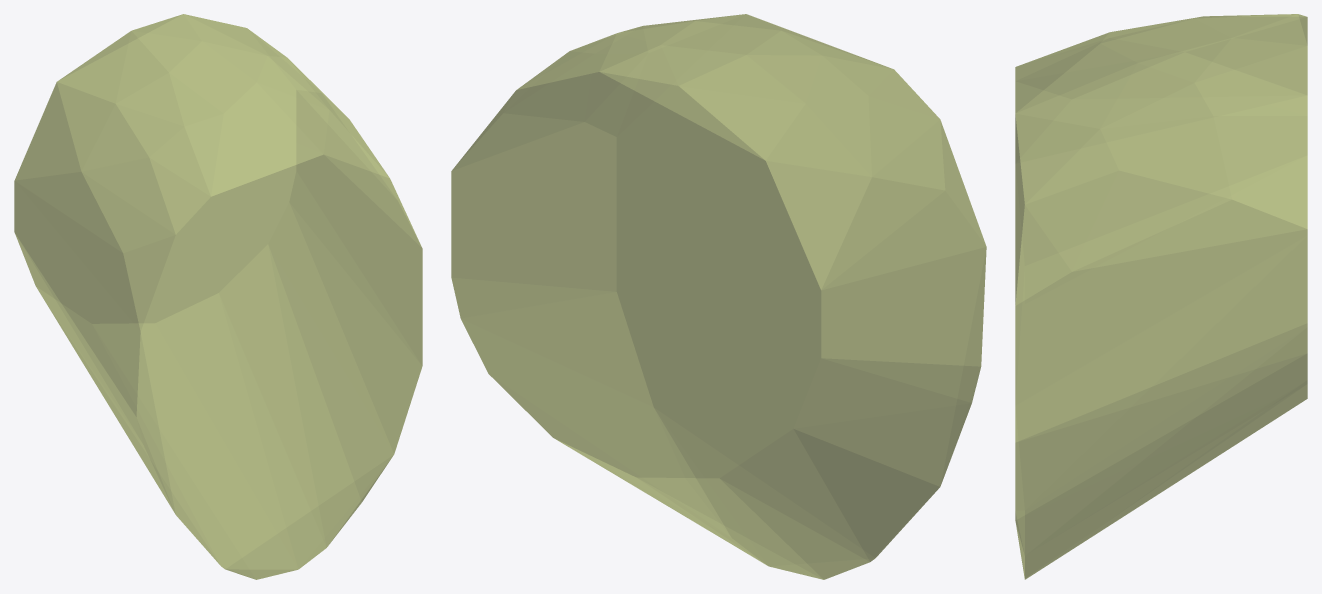
3 views of the same model, side by side, from view 1: azimuth 30°, elevation 25°; view 2: azimuth 150°, elevation 25°; view 3: azimuth 270°, elevation 25° (orthographic). The views are drawn at different scales.
Parts seen in each view (by area): view 1: Shape_IndexedFaceSet.002_Shape_IndexedFaceSet.3963; view 2: Shape_IndexedFaceSet.002_Shape_IndexedFaceSet.3963; view 3: Shape_IndexedFaceSet.002_Shape_IndexedFaceSet.3963.
Boxes of the visible parts, box(x1,y1,x2,y2) form: Shape_IndexedFaceSet.002_Shape_IndexedFaceSet.3963: box(14, 14, 422, 579); Shape_IndexedFaceSet.002_Shape_IndexedFaceSet.3963: box(451, 14, 986, 579); Shape_IndexedFaceSet.002_Shape_IndexedFaceSet.3963: box(1015, 14, 1307, 579).
Bounding box in the file's own units: 0.0552 × 0.087 × 0.0428.
